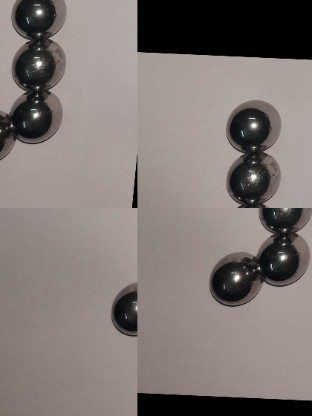ironball: (208, 249, 269, 312), (222, 145, 282, 204), (250, 232, 312, 289), (9, 90, 66, 148), (11, 35, 68, 92), (225, 96, 283, 150), (2, 0, 76, 37), (107, 280, 141, 339), (256, 203, 312, 232), (0, 108, 14, 164)
